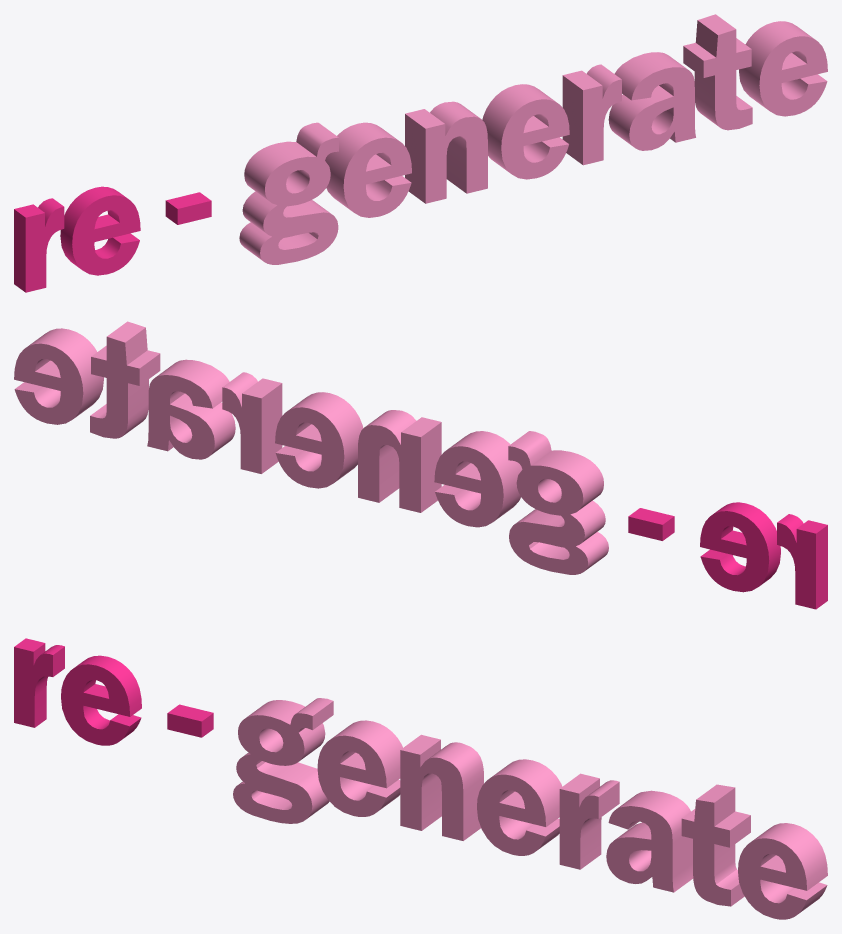
Rendered from Re- generate.fbx.
3 views of the same model, one above another, from view 1: azimuth 30°, elevation 25°; view 2: azimuth 150°, elevation 25°; view 3: azimuth 330°, elevation 25° (orthographic).
Visible parts, largest first — view 1: re__generate1; view 2: re__generate1; view 3: re__generate1.
Part boxes in pixels (left/top/right/bottom): re__generate1: left=14, top=14, right=827, bottom=292; re__generate1: left=14, top=321, right=827, bottom=609; re__generate1: left=14, top=638, right=827, bottom=919.
Size of the model in its own units: 3894 by 587 by 175.
